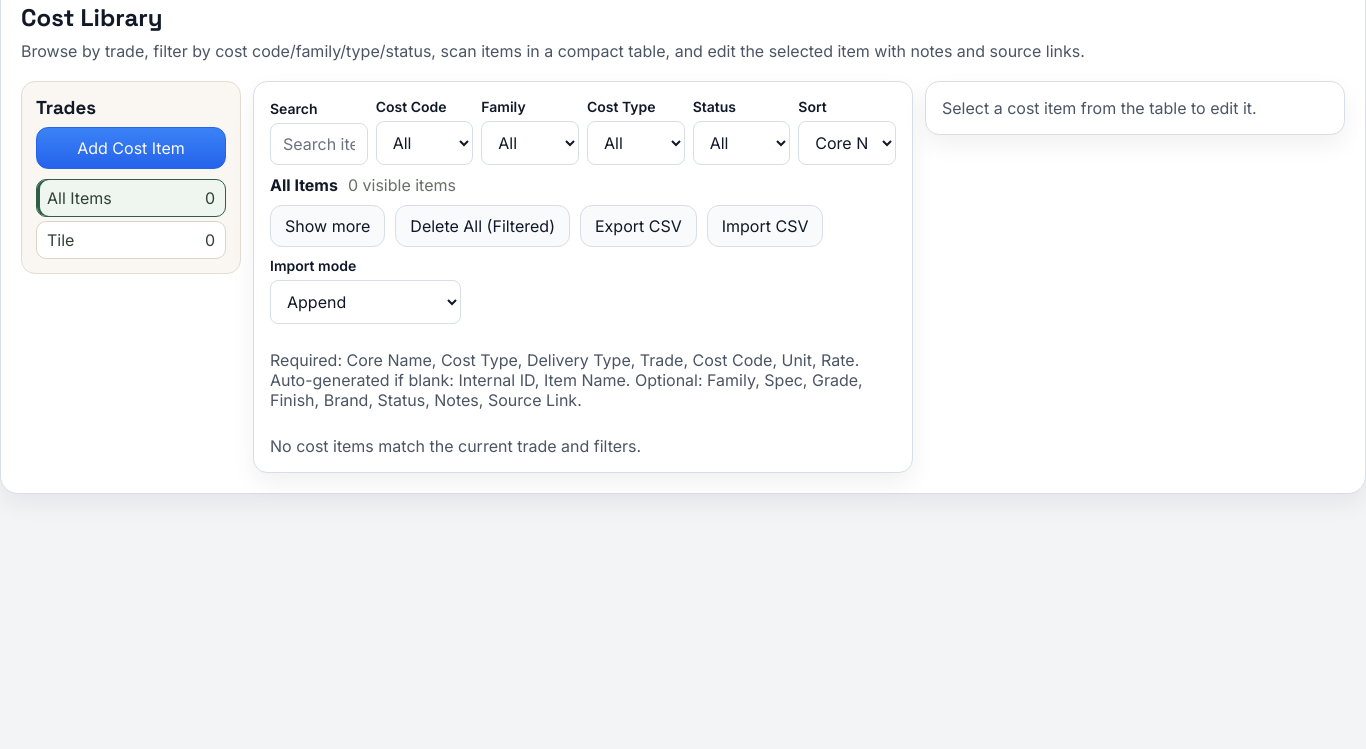
it: validates required cost classification fields before save
What coordinates should you click on to do the following:
click the button "Add Cost Item"
I would click on:
 (131, 148)
Its box is [36, 127, 226, 169].
(page scrolled)
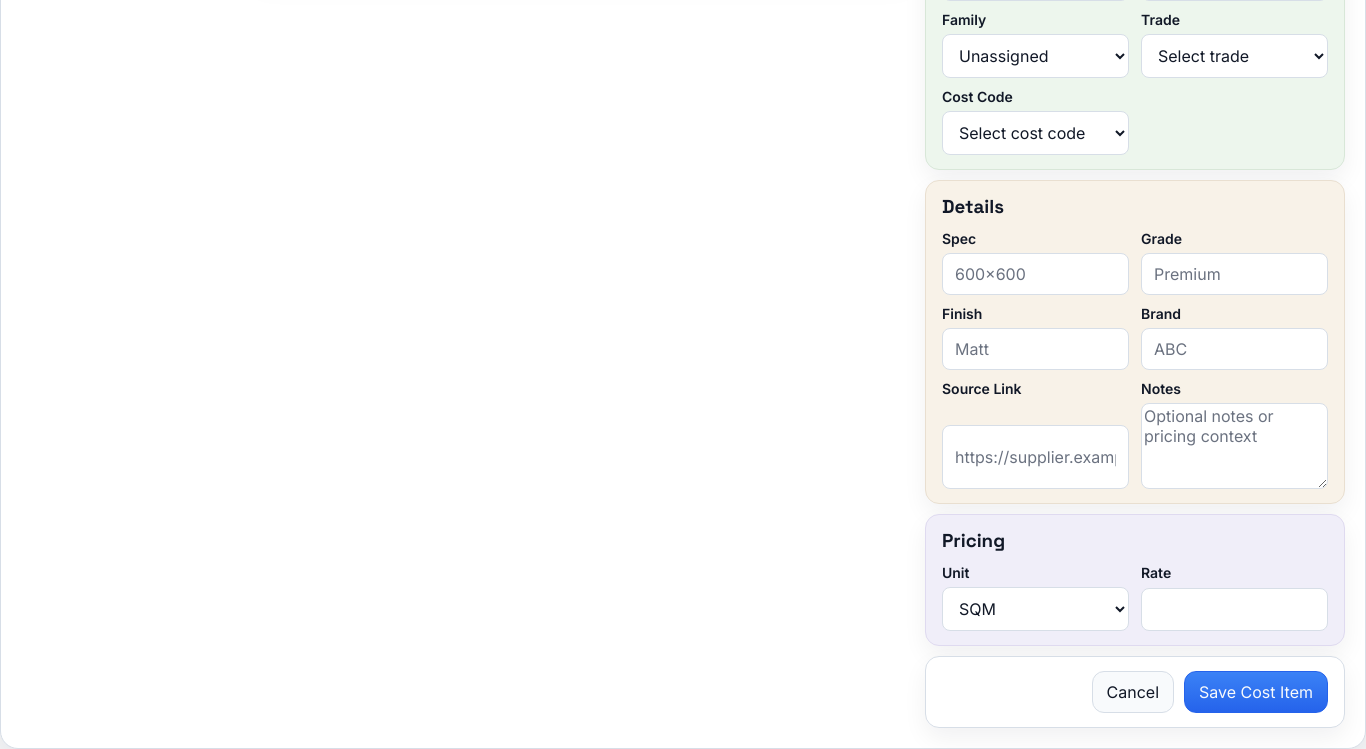
What coordinates should you click on to do the following:
click the button "Save Cost Item"
I would click on:
 (1256, 692)
Its box is [1184, 671, 1328, 713].
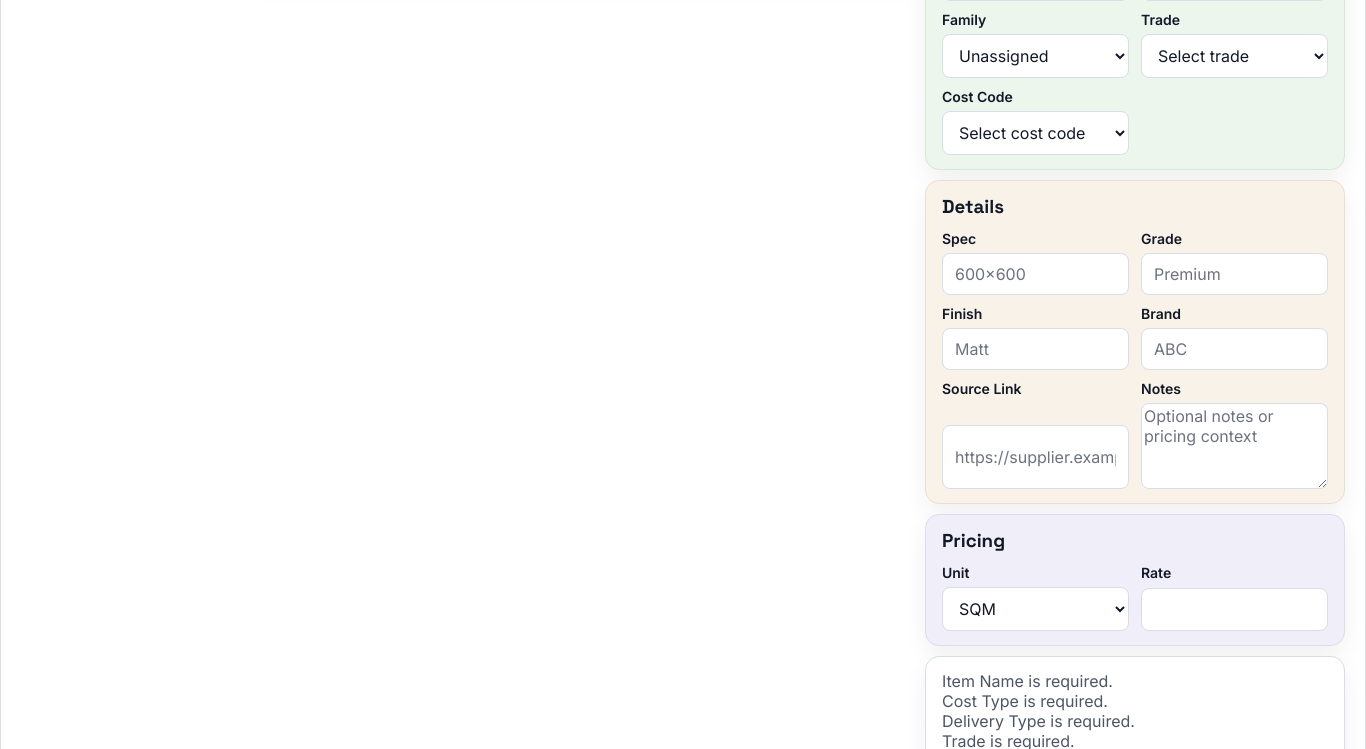
Expected: the text "Item Name is required." is shown, [942, 671, 1113, 691]
Expected: the text "Cost Type is required." is shown, [942, 691, 1108, 711]
Expected: the text "Delivery Type is required." is shown, [942, 711, 1135, 731]
